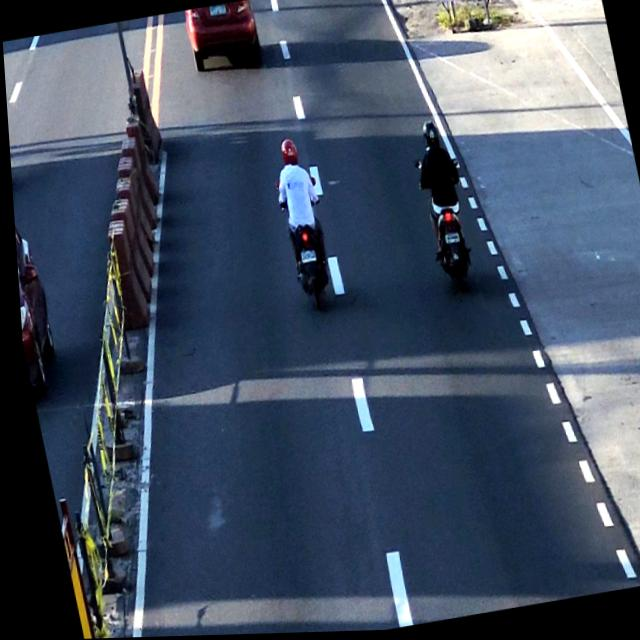Car: (181, 0, 267, 77)
License-Plate: (295, 250, 315, 268), (440, 233, 459, 249)
Motorcycle: (407, 115, 474, 298), (269, 139, 339, 313)
